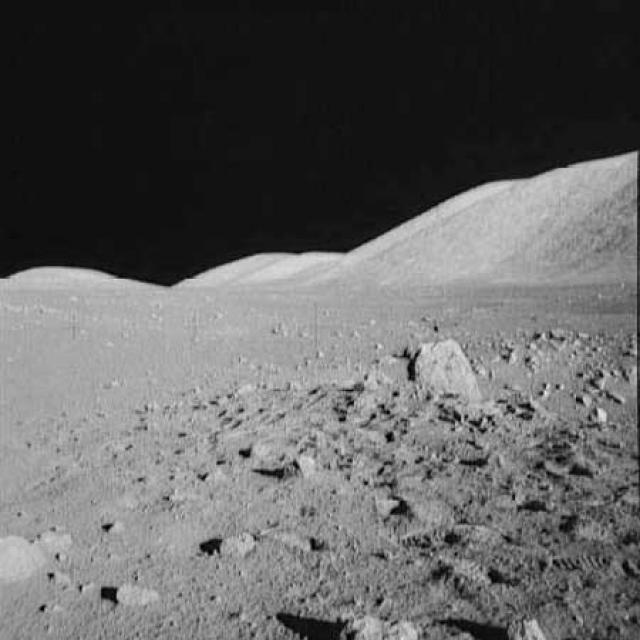rock: (355, 328, 471, 390), (316, 594, 415, 638), (431, 392, 505, 434), (258, 440, 325, 478), (209, 525, 263, 569), (110, 573, 156, 616)
